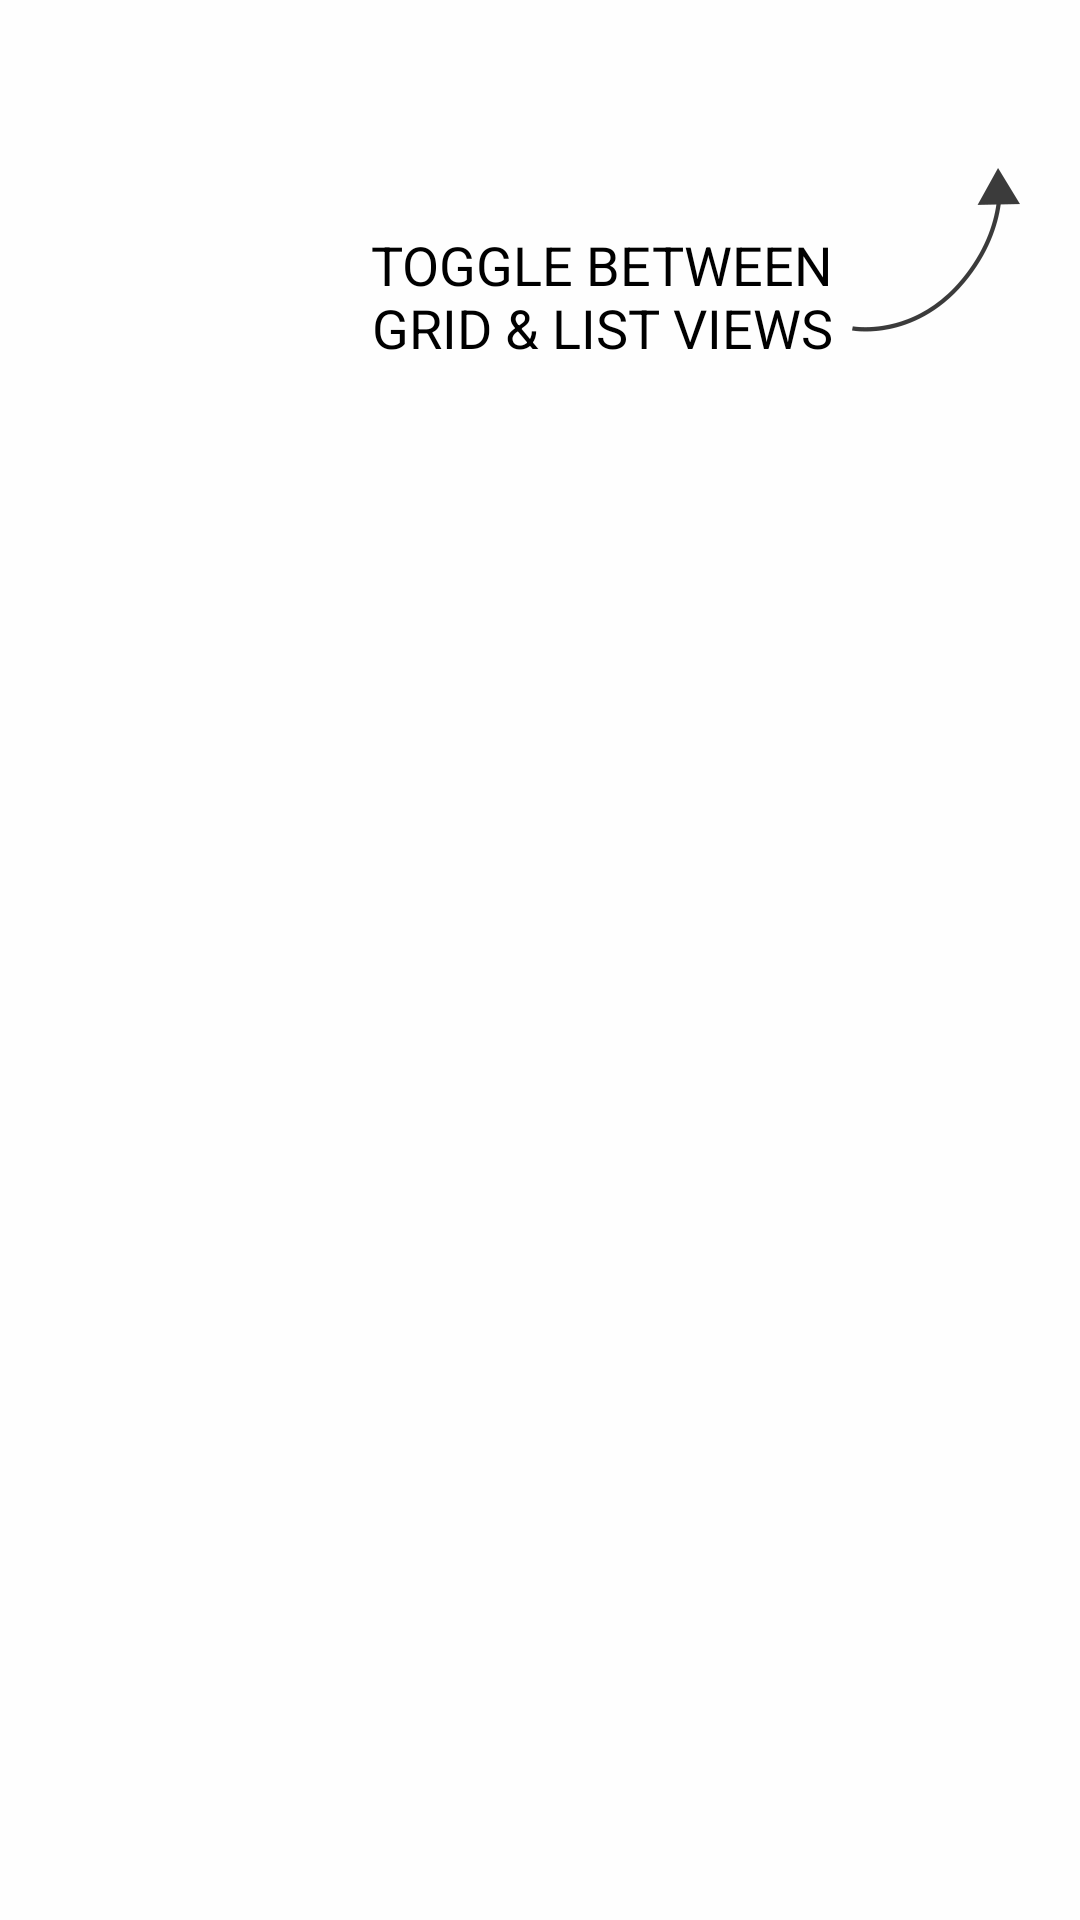

Icon click points for this 1080px×1920px phone screenshot, format point (x, y):
arrow up: point (936, 250)
